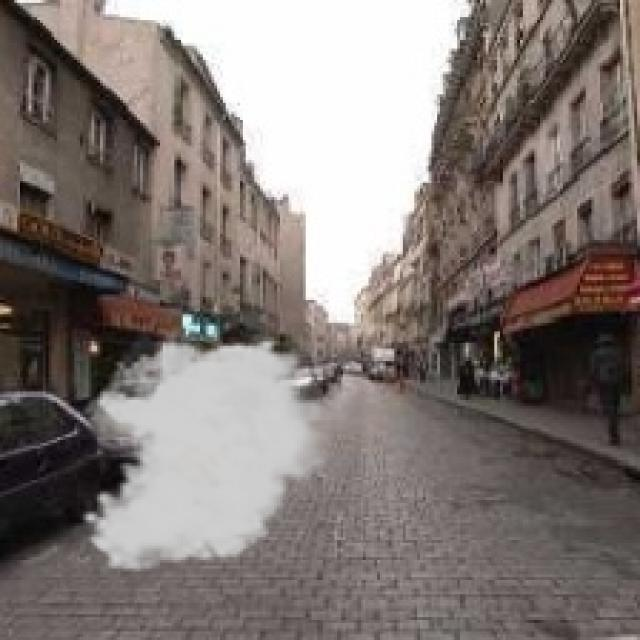smoke: (80, 323, 337, 574)
